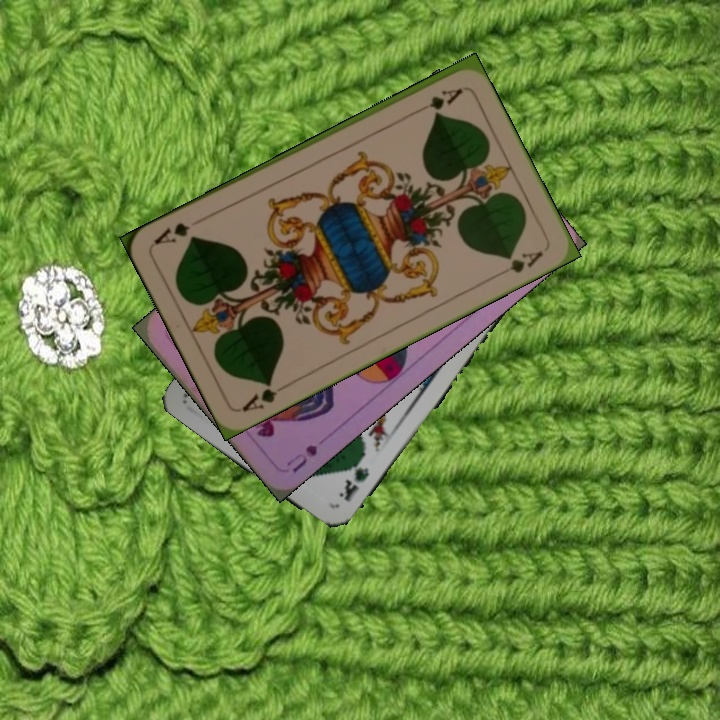GA: (238, 377, 292, 415), (410, 84, 466, 117)
GK: (334, 452, 372, 505)
SU: (282, 440, 320, 476)
